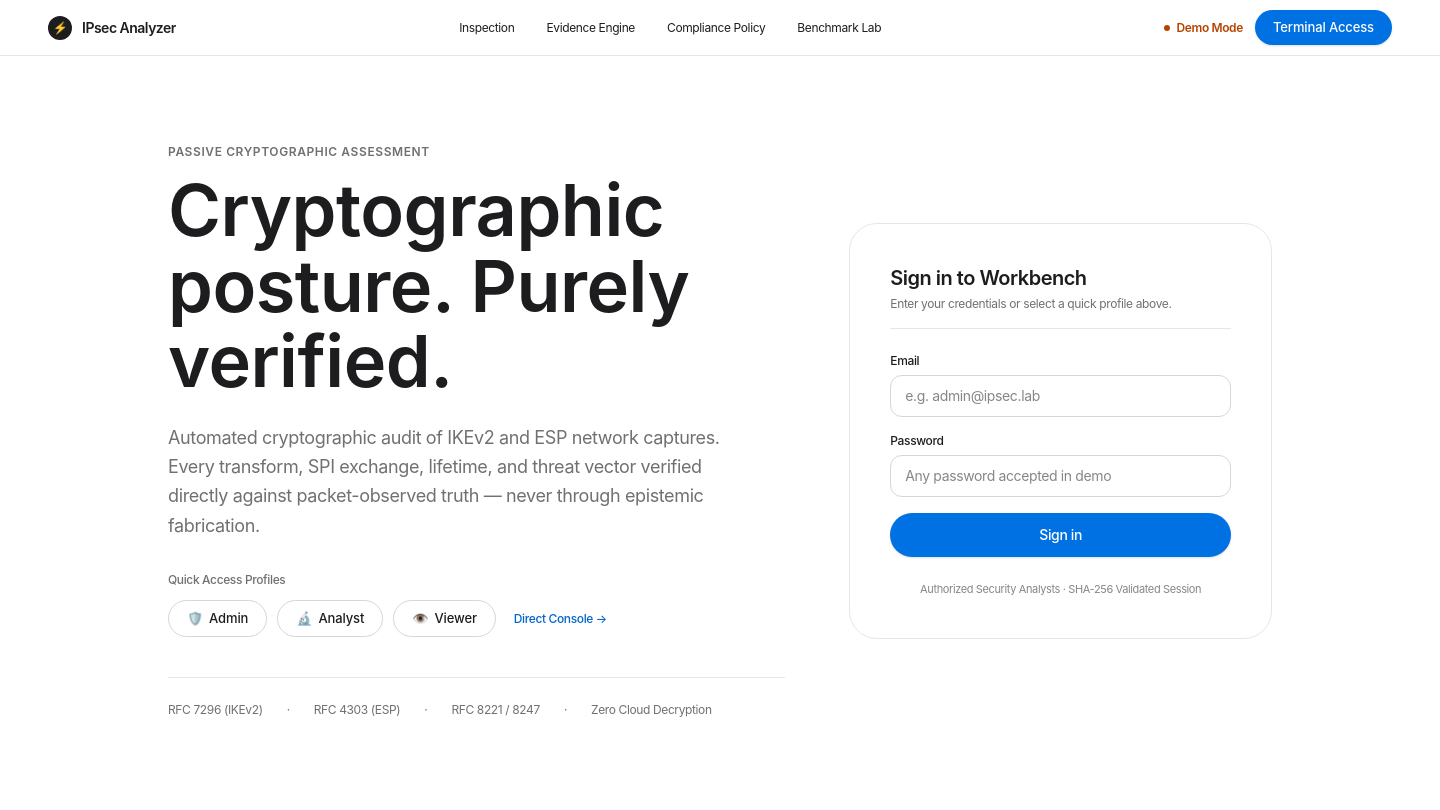
Test: application smoke test › opens into the dope.security landing page with Demo Mode and Terminal Access
This screenshot has width=1440, height=810.
Check: the text "Demo Mode" is shown, box [1164,20,1243,36]
Check: the button "🛡️ Admin" is shown, box [168,600,267,637]
Click the link "Terminal Access". click: (1324, 28)
box: [1255,10,1392,45]
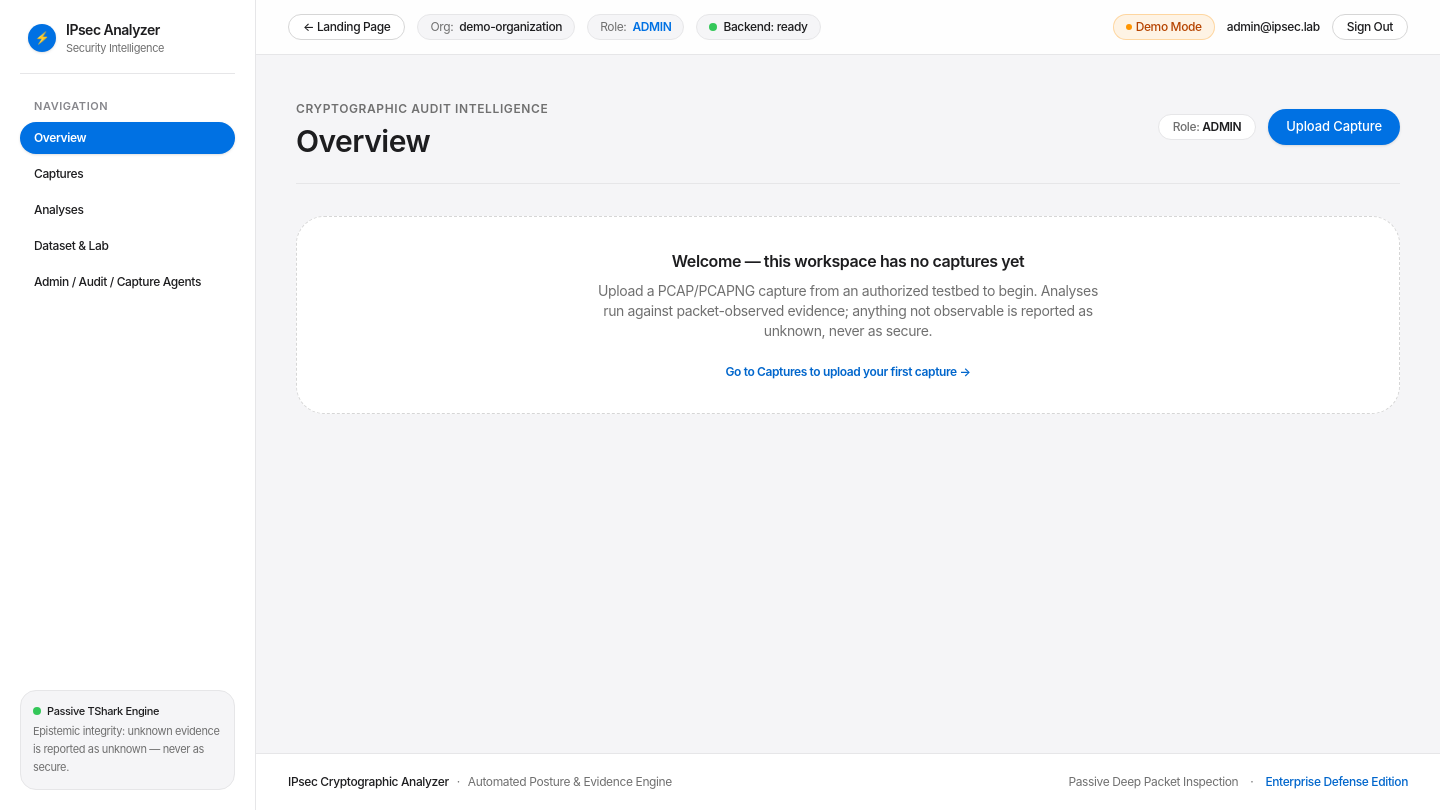
Check: the navigation bar named "Primary" is shown, box [0,0,256,809]
Check: the heading "Overview" is shown, box [296,123,430,159]
